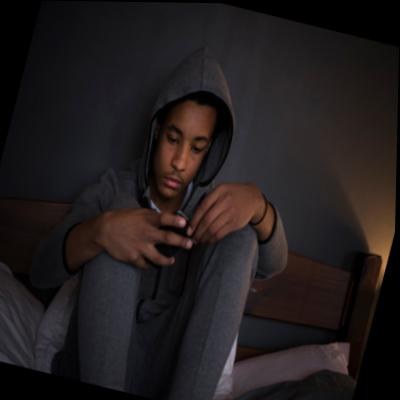sad: (150, 99, 215, 201)
